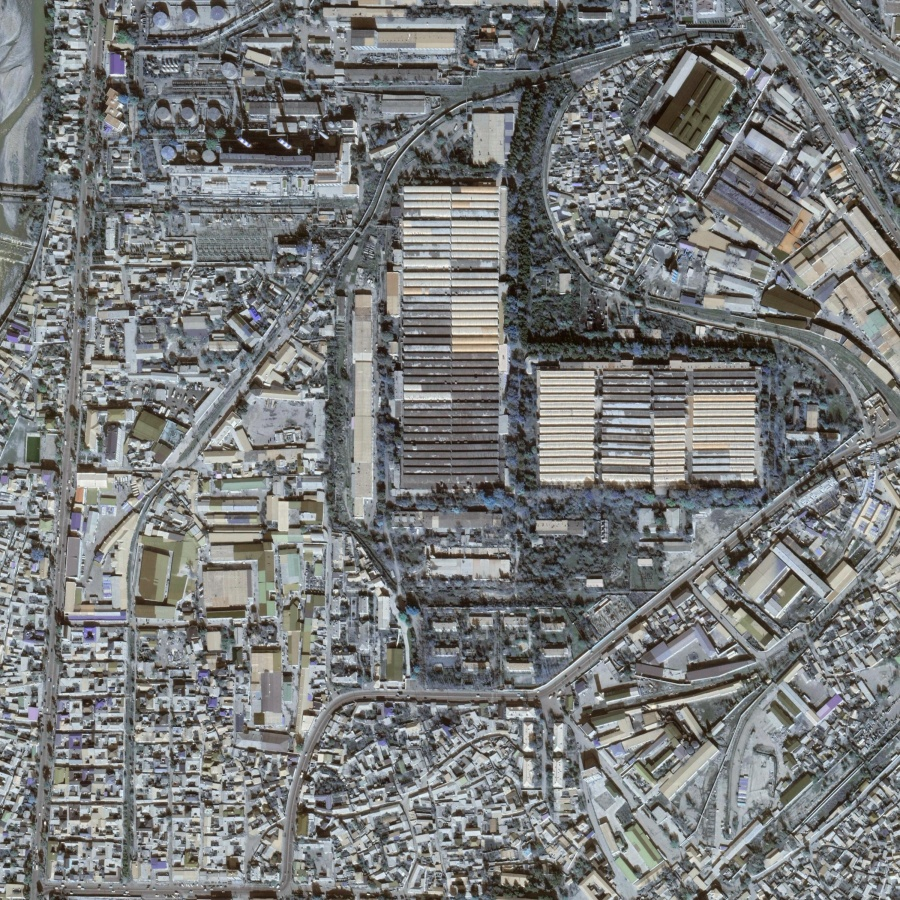PowerPlant: (143, 52, 364, 263)
